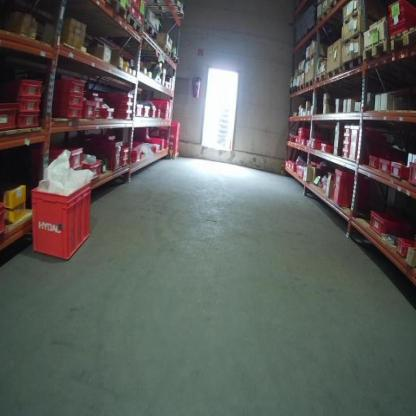pallet: (363, 35, 390, 64), (390, 26, 416, 53), (343, 7, 364, 27), (105, 0, 127, 18), (342, 56, 364, 72), (126, 13, 141, 34), (342, 32, 362, 47), (145, 23, 158, 41), (327, 65, 342, 79), (317, 8, 330, 24), (315, 72, 327, 85), (329, 0, 343, 11), (160, 45, 171, 56), (306, 52, 317, 62), (305, 79, 315, 88), (167, 152, 179, 159), (296, 83, 305, 92)
small_load_carrier: (30, 177, 96, 262), (80, 131, 126, 172), (348, 124, 384, 165), (332, 167, 368, 207), (369, 206, 411, 232), (48, 142, 85, 170), (3, 78, 46, 101), (3, 95, 42, 112), (47, 93, 86, 108), (47, 108, 83, 124), (390, 156, 409, 186), (1, 104, 20, 134), (51, 77, 86, 93), (394, 237, 416, 262), (82, 154, 103, 180), (151, 97, 172, 122), (13, 113, 42, 131), (96, 109, 136, 122), (82, 93, 96, 124), (387, 13, 415, 26), (101, 90, 134, 101), (386, 1, 415, 13), (96, 102, 134, 111), (96, 107, 116, 124), (387, 26, 413, 38), (378, 153, 391, 174), (365, 154, 380, 172), (128, 102, 144, 118), (295, 165, 309, 183), (1, 202, 8, 236), (406, 158, 414, 187), (146, 136, 165, 148), (118, 146, 132, 159), (130, 149, 143, 163), (308, 137, 320, 150), (319, 143, 332, 155), (91, 109, 102, 122), (154, 109, 164, 123), (340, 135, 355, 144), (143, 106, 151, 122), (300, 128, 314, 137), (93, 95, 103, 107), (118, 157, 128, 169), (342, 124, 352, 136), (299, 139, 309, 148), (340, 152, 351, 160), (341, 143, 351, 150), (151, 105, 155, 118)
